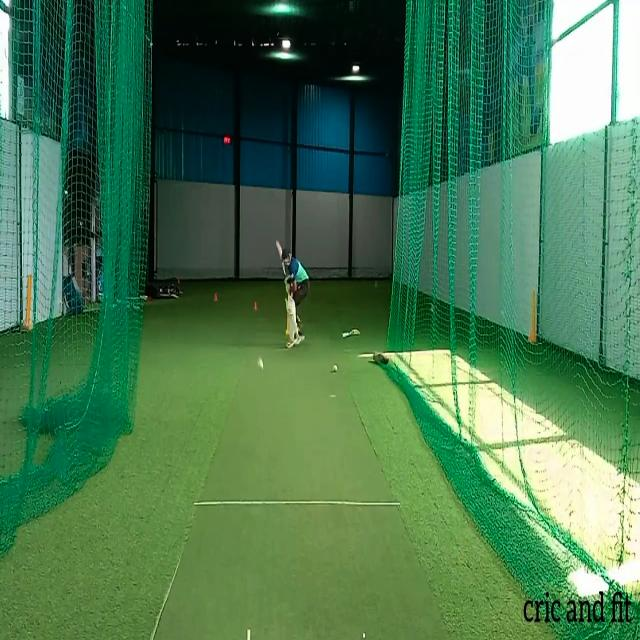batsman: (276, 238, 310, 349)
